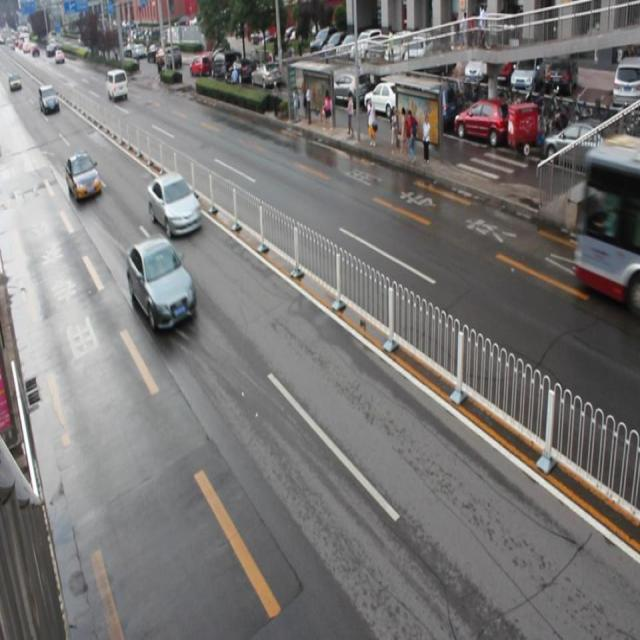car: (126, 234, 196, 329), (147, 172, 204, 237), (66, 152, 102, 204)
van: (574, 134, 640, 305)
